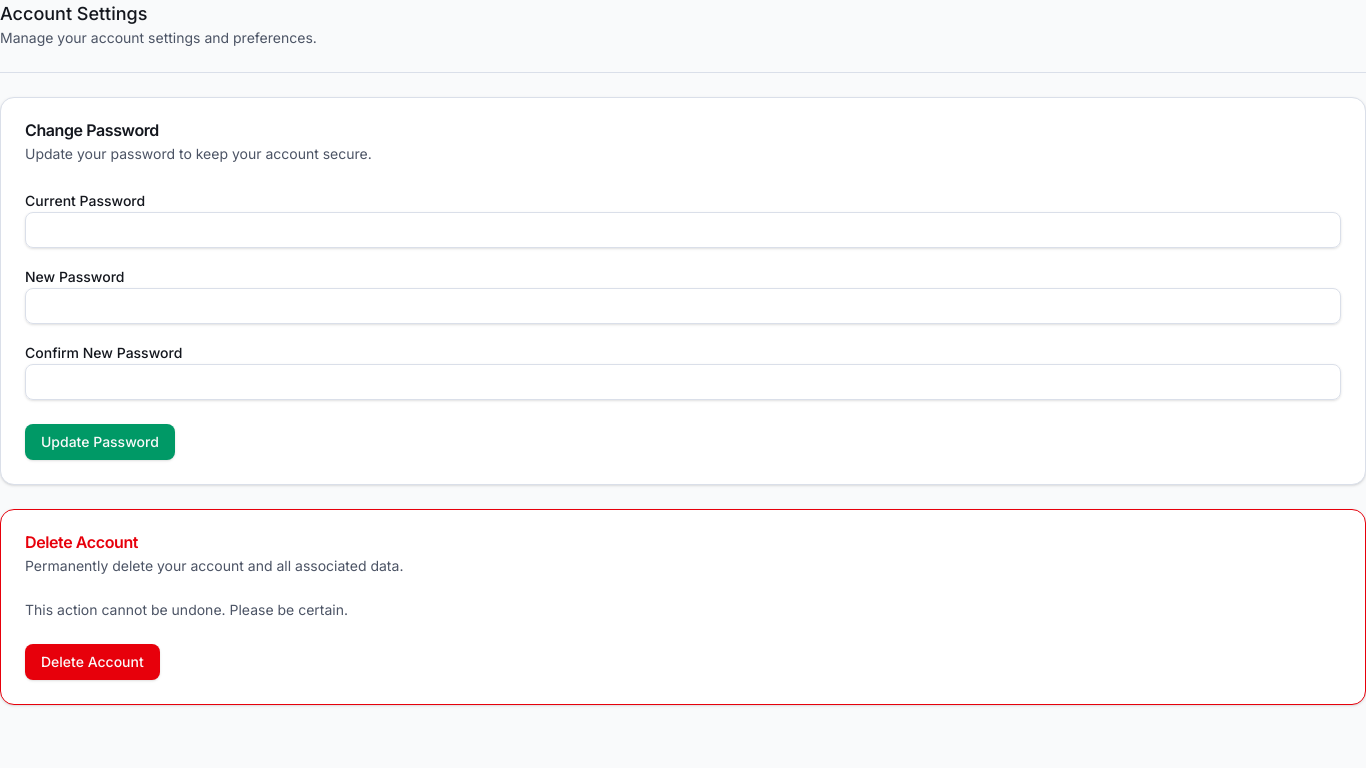
DashboardSettings › opens delete confirmation dialog when Delete Account button is clicked
Click the button "Delete Account". click: [92, 662]
box: x1=25 y1=644 x2=160 y2=680
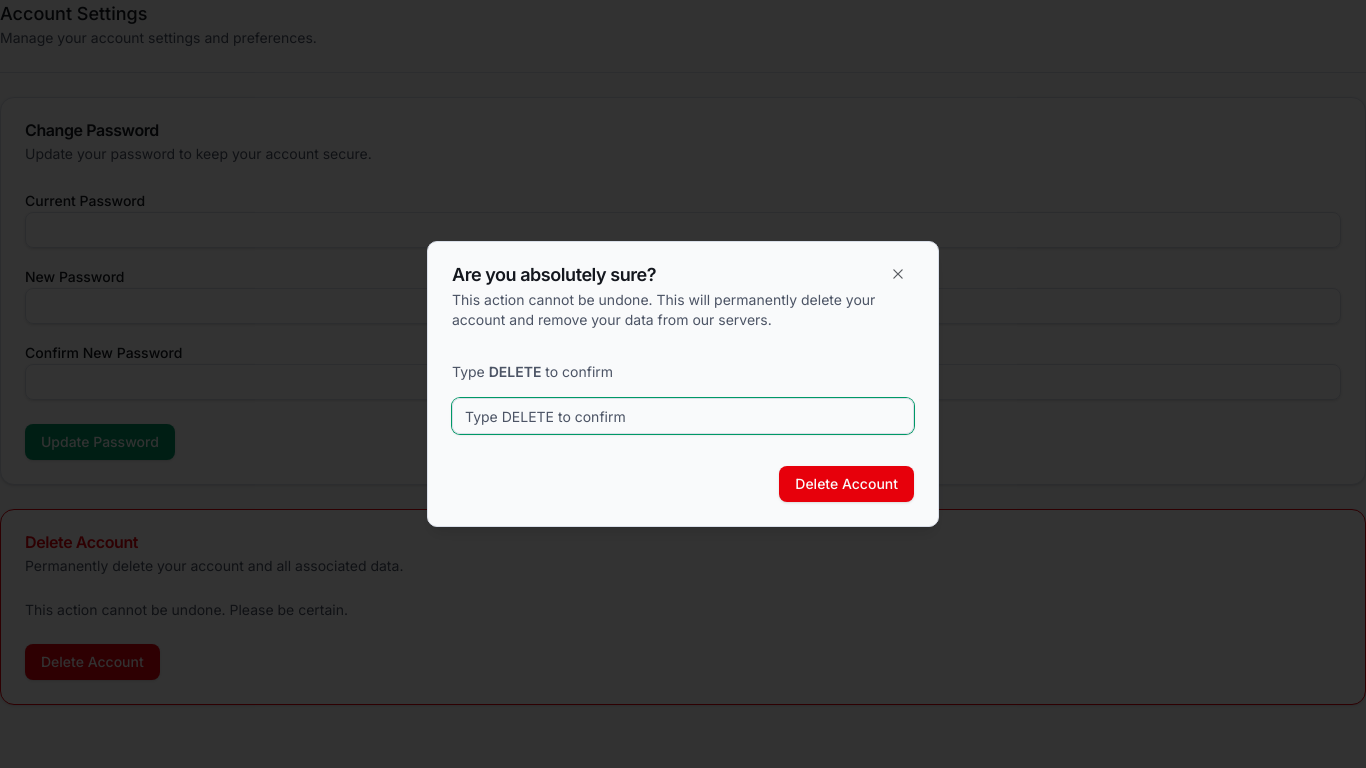
Now the heading "Are you absolutely sure?" is shown, box x1=452 y1=264 x2=656 y2=285
